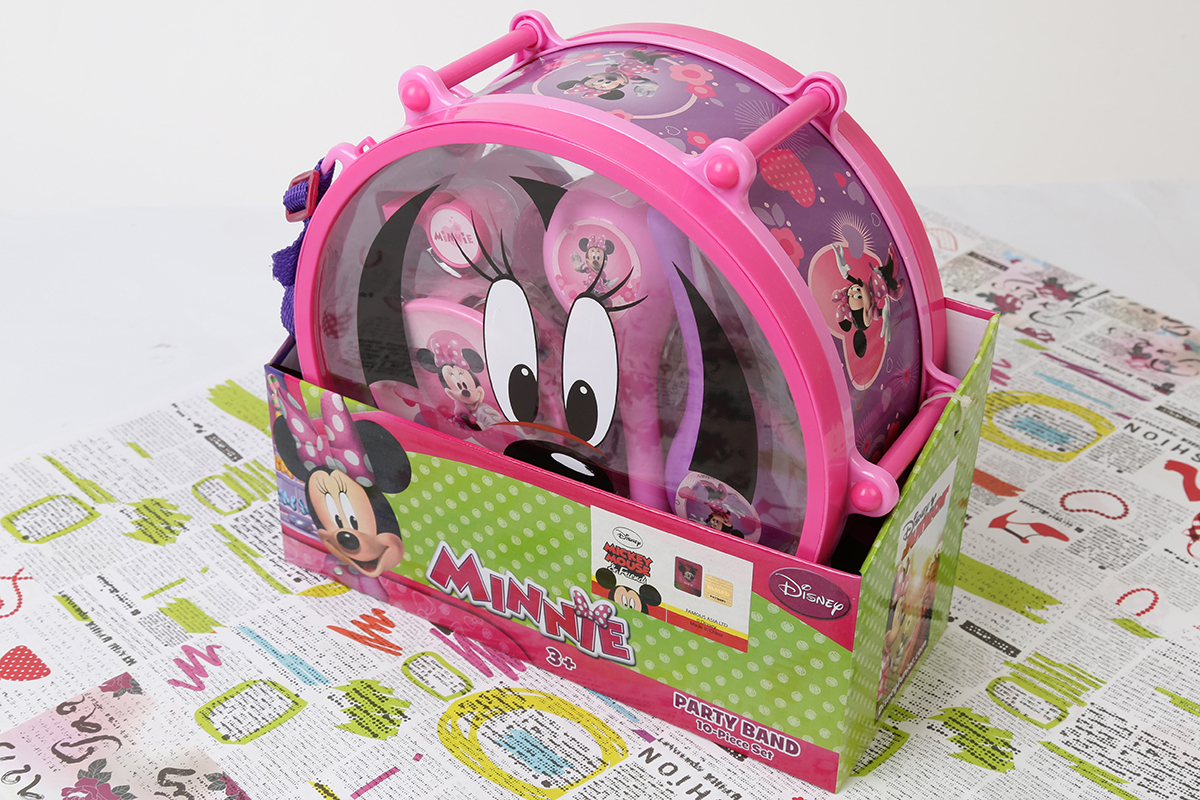Disney: (763, 561, 856, 625)
